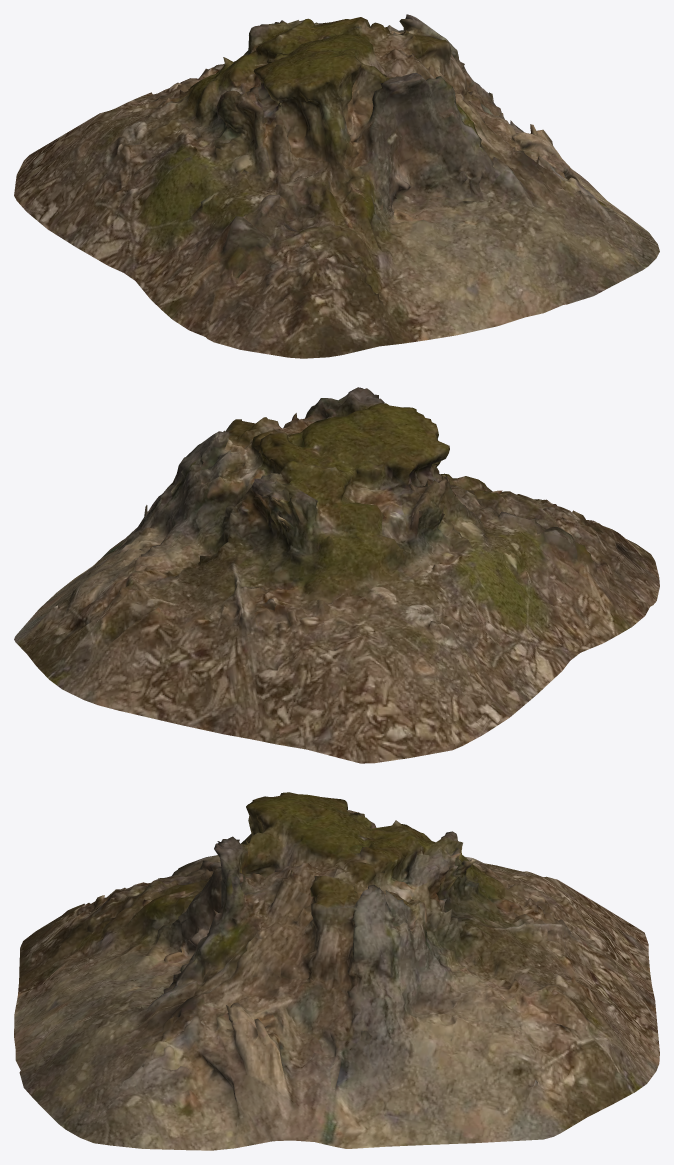
Rendered from tree_stump_01.glb.
3 views of the same model, one above another, from view 1: azimuth 30°, elevation 25°; view 2: azimuth 150°, elevation 25°; view 3: azimuth 270°, elevation 25° (orthographic). The views are drawn at different scales.
Parts seen in each view (by area): view 1: tree_stump_01; view 2: tree_stump_01; view 3: tree_stump_01.
Part boxes in pixels (bbox=[...]): tree_stump_01: bbox=[14, 14, 659, 358]; tree_stump_01: bbox=[14, 387, 659, 763]; tree_stump_01: bbox=[14, 792, 659, 1150].
Bounding box in the file's own units: 1.43 × 0.5725 × 1.59.
1 material, 1 textured.
